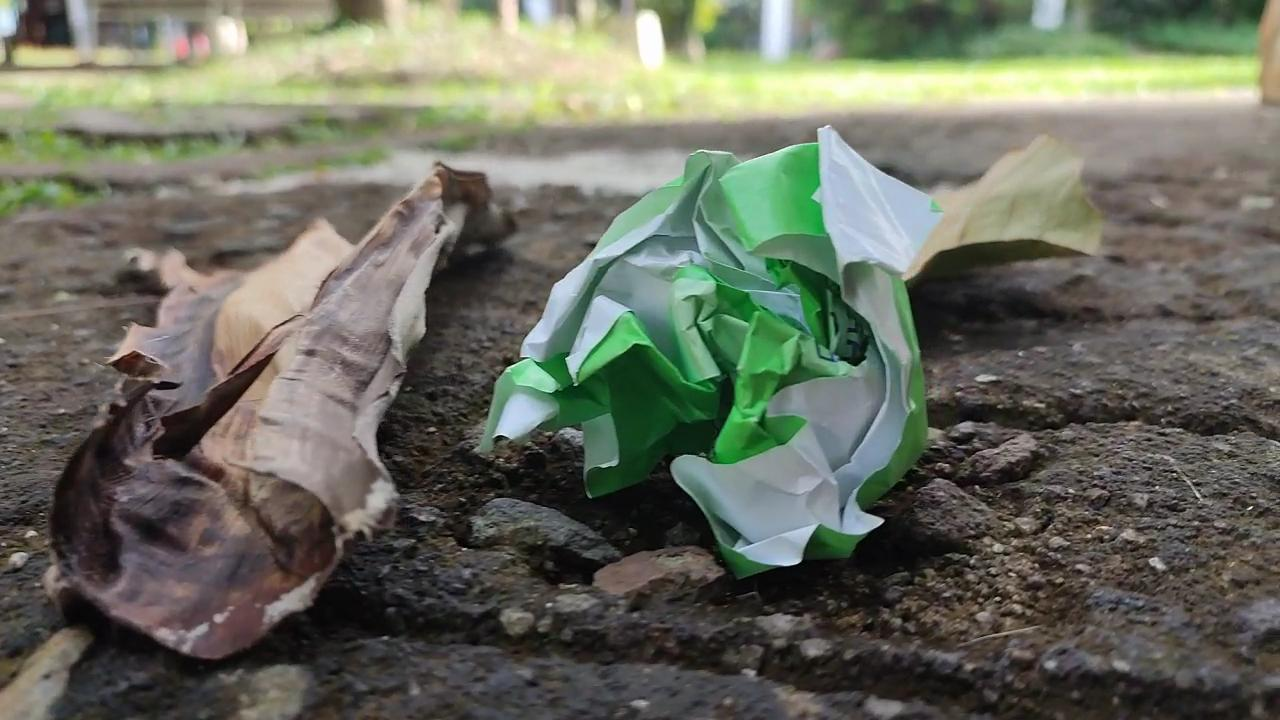Paper: (481, 110, 932, 572)
